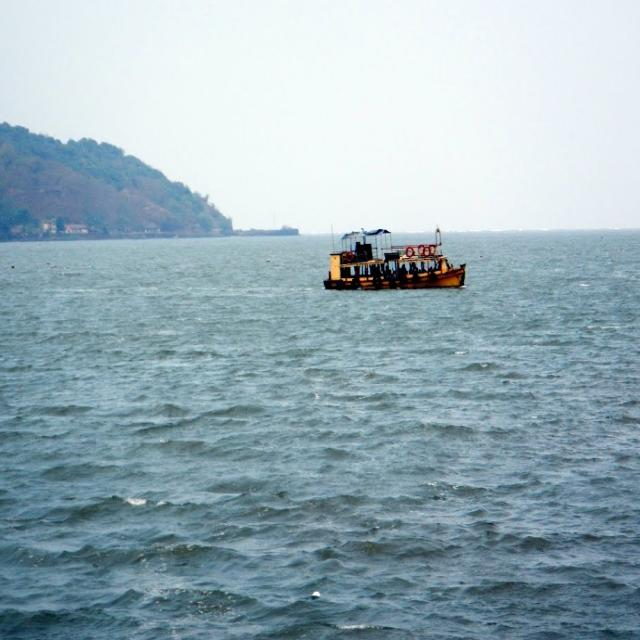fishing boat: (322, 224, 478, 302)
